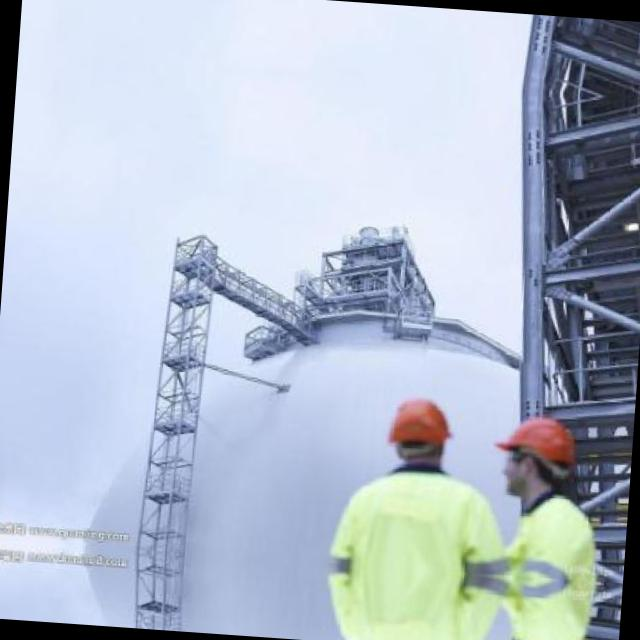helmet: (489, 410, 582, 498), (378, 386, 459, 474)
